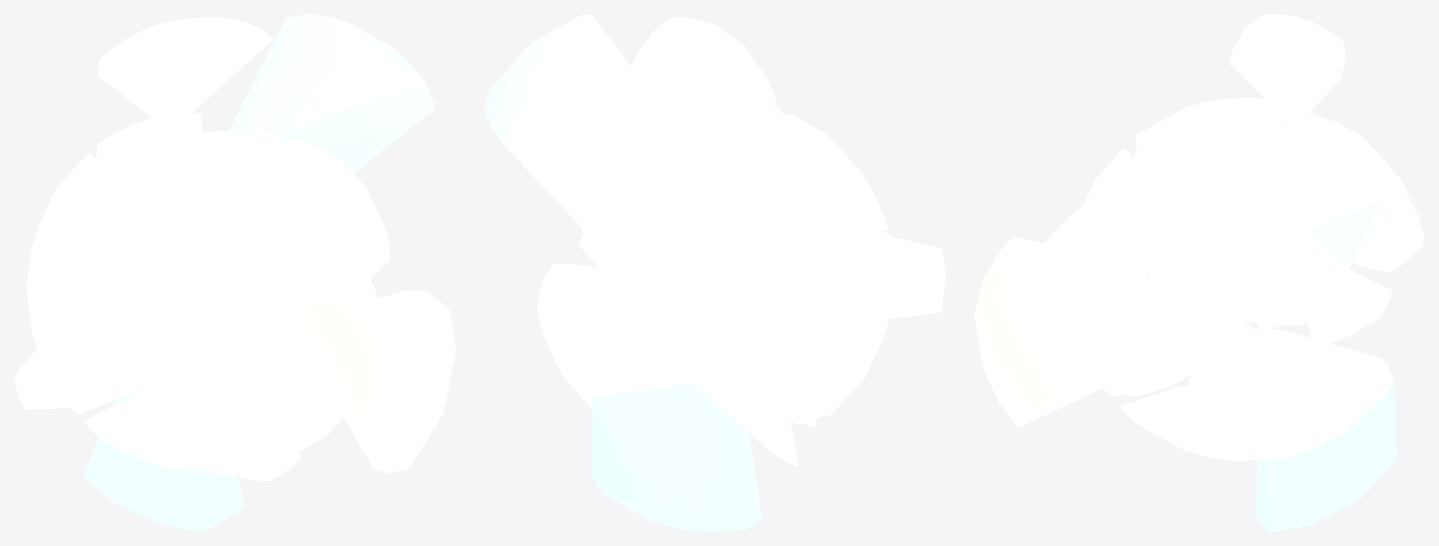
File: abstractball2.2.glb
3 renders of one model, left to right at view 1: azimuth 30°, elevation 25°; view 2: azimuth 150°, elevation 25°; view 3: azimuth 270°, elevation 25°, orthographic. The views are drawn at different scales.
Visible parts, largest first — view 1: Voronoi_Fracture.2; view 2: Voronoi_Fracture.2; view 3: Voronoi_Fracture.2.
Boxes of the visible parts, x1,y1,x2,y2 form: Voronoi_Fracture.2: [14, 14, 455, 531]; Voronoi_Fracture.2: [484, 14, 945, 531]; Voronoi_Fracture.2: [974, 14, 1424, 531].
Size of what is drawn, in the model's own units: 3.46 by 4.3 by 3.57.
1 material, 1 textured.
